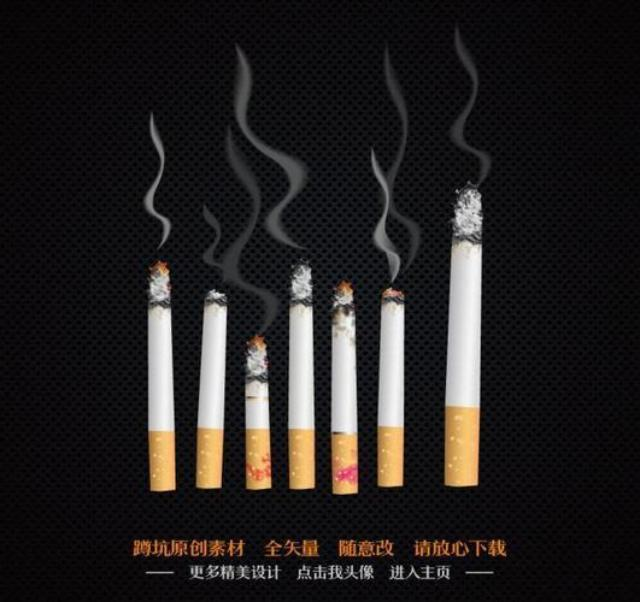Smoking: (444, 184, 484, 487), (148, 260, 178, 494), (288, 259, 316, 489), (330, 282, 360, 496), (196, 290, 228, 490), (378, 288, 404, 487), (245, 335, 273, 491)
